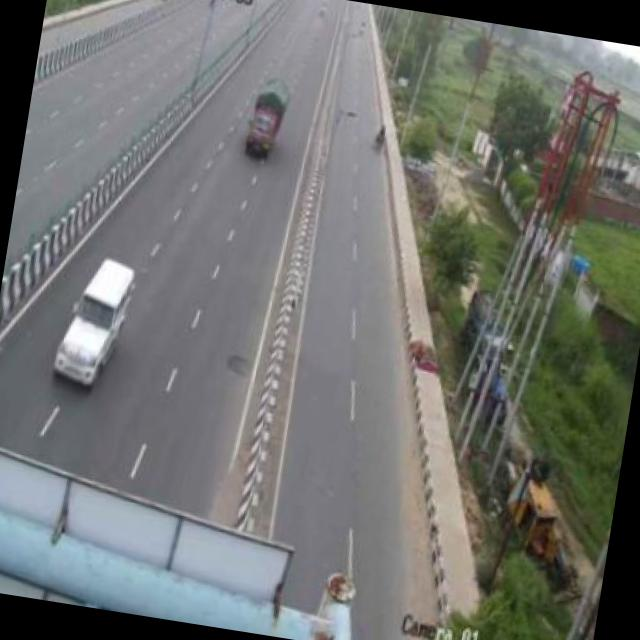car: (50, 258, 151, 407)
